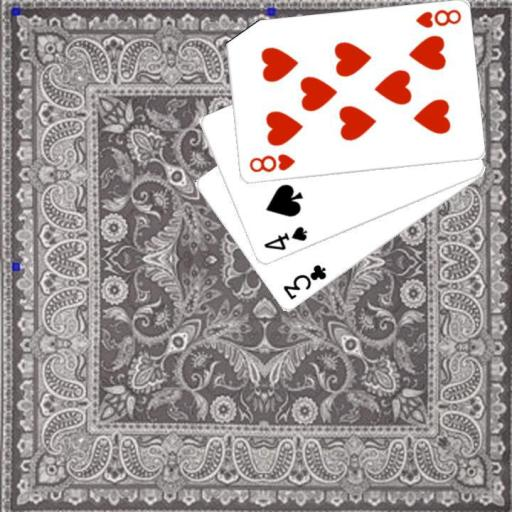3C: (279, 262, 328, 302)
4S: (260, 224, 309, 253)
8H: (413, 6, 463, 30), (246, 151, 297, 174)
